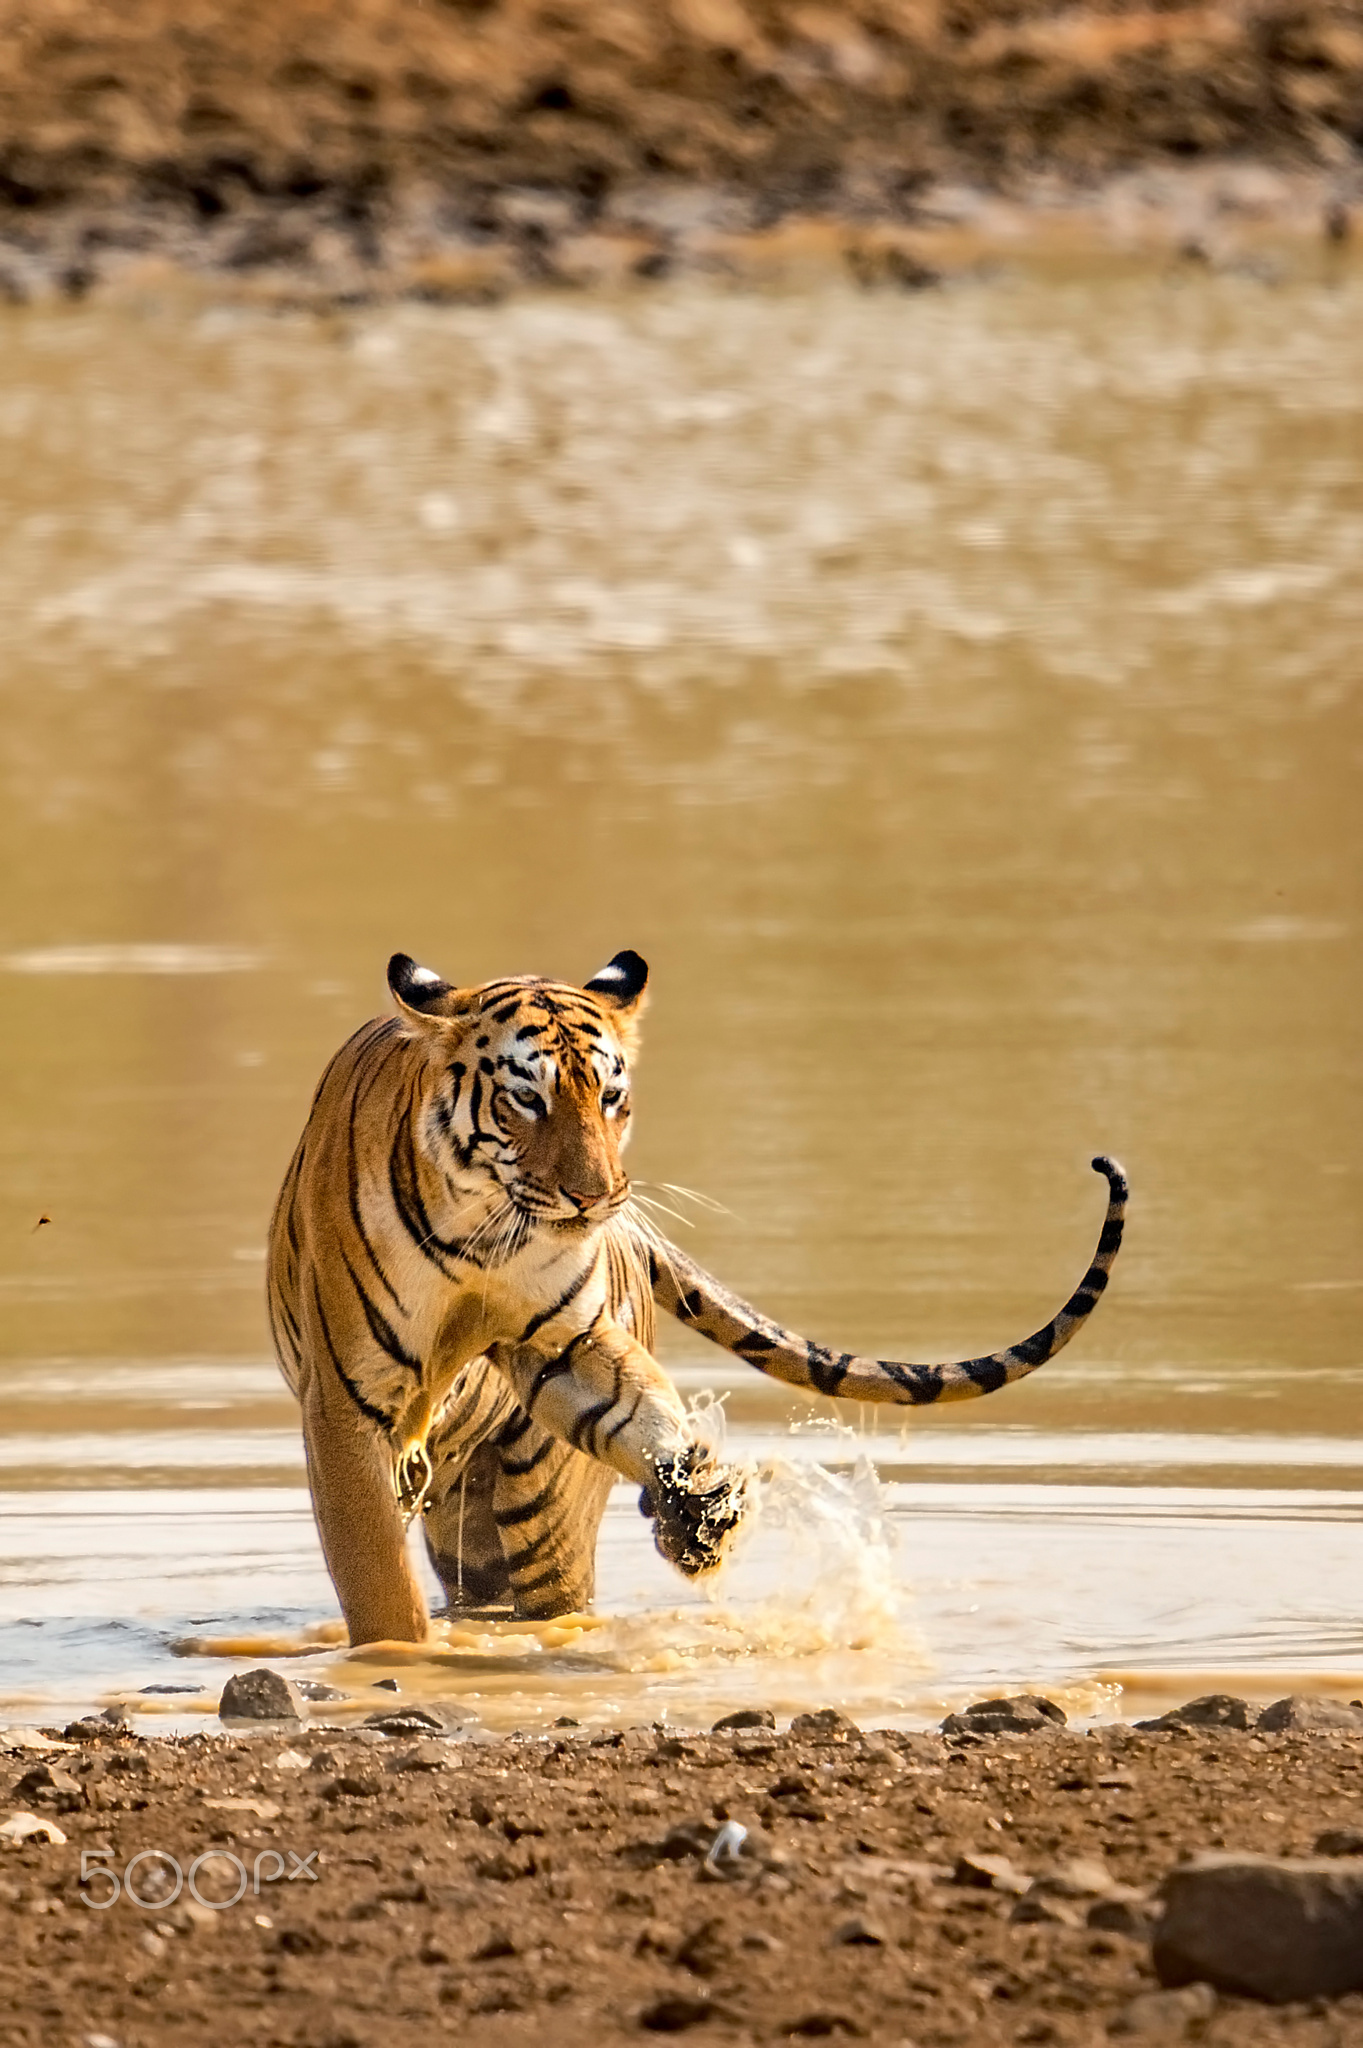tiger: (254, 914, 1100, 1714)
